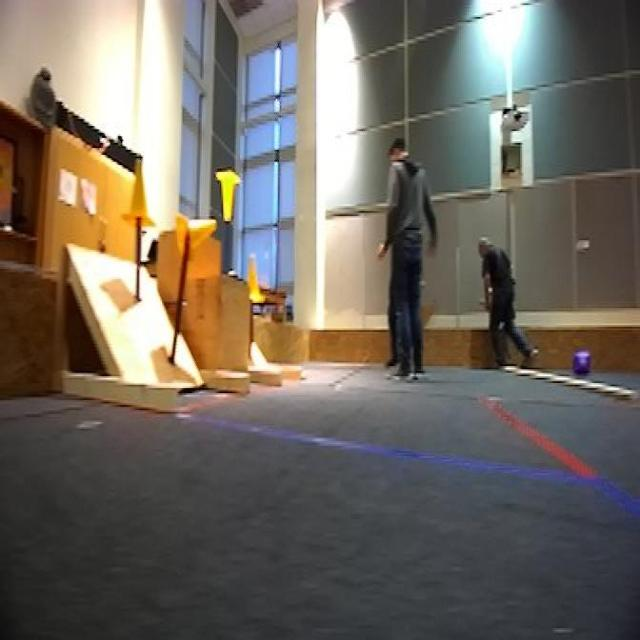frc_cone: (122, 156, 155, 230), (174, 213, 216, 264), (242, 247, 267, 306), (214, 172, 238, 230)
frc_cube: (572, 351, 592, 381)
